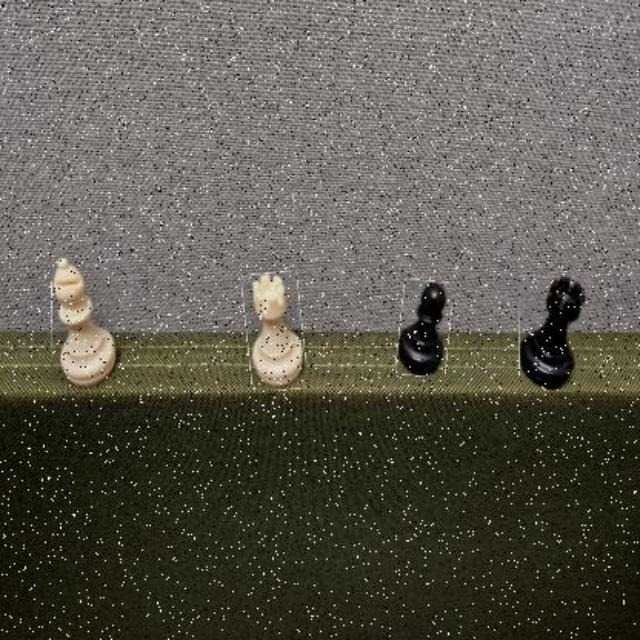black-pawn: (397, 280, 452, 378)
black-rook: (519, 276, 585, 388)
white-bishop: (53, 258, 119, 388)
white-rook: (244, 272, 305, 392)
